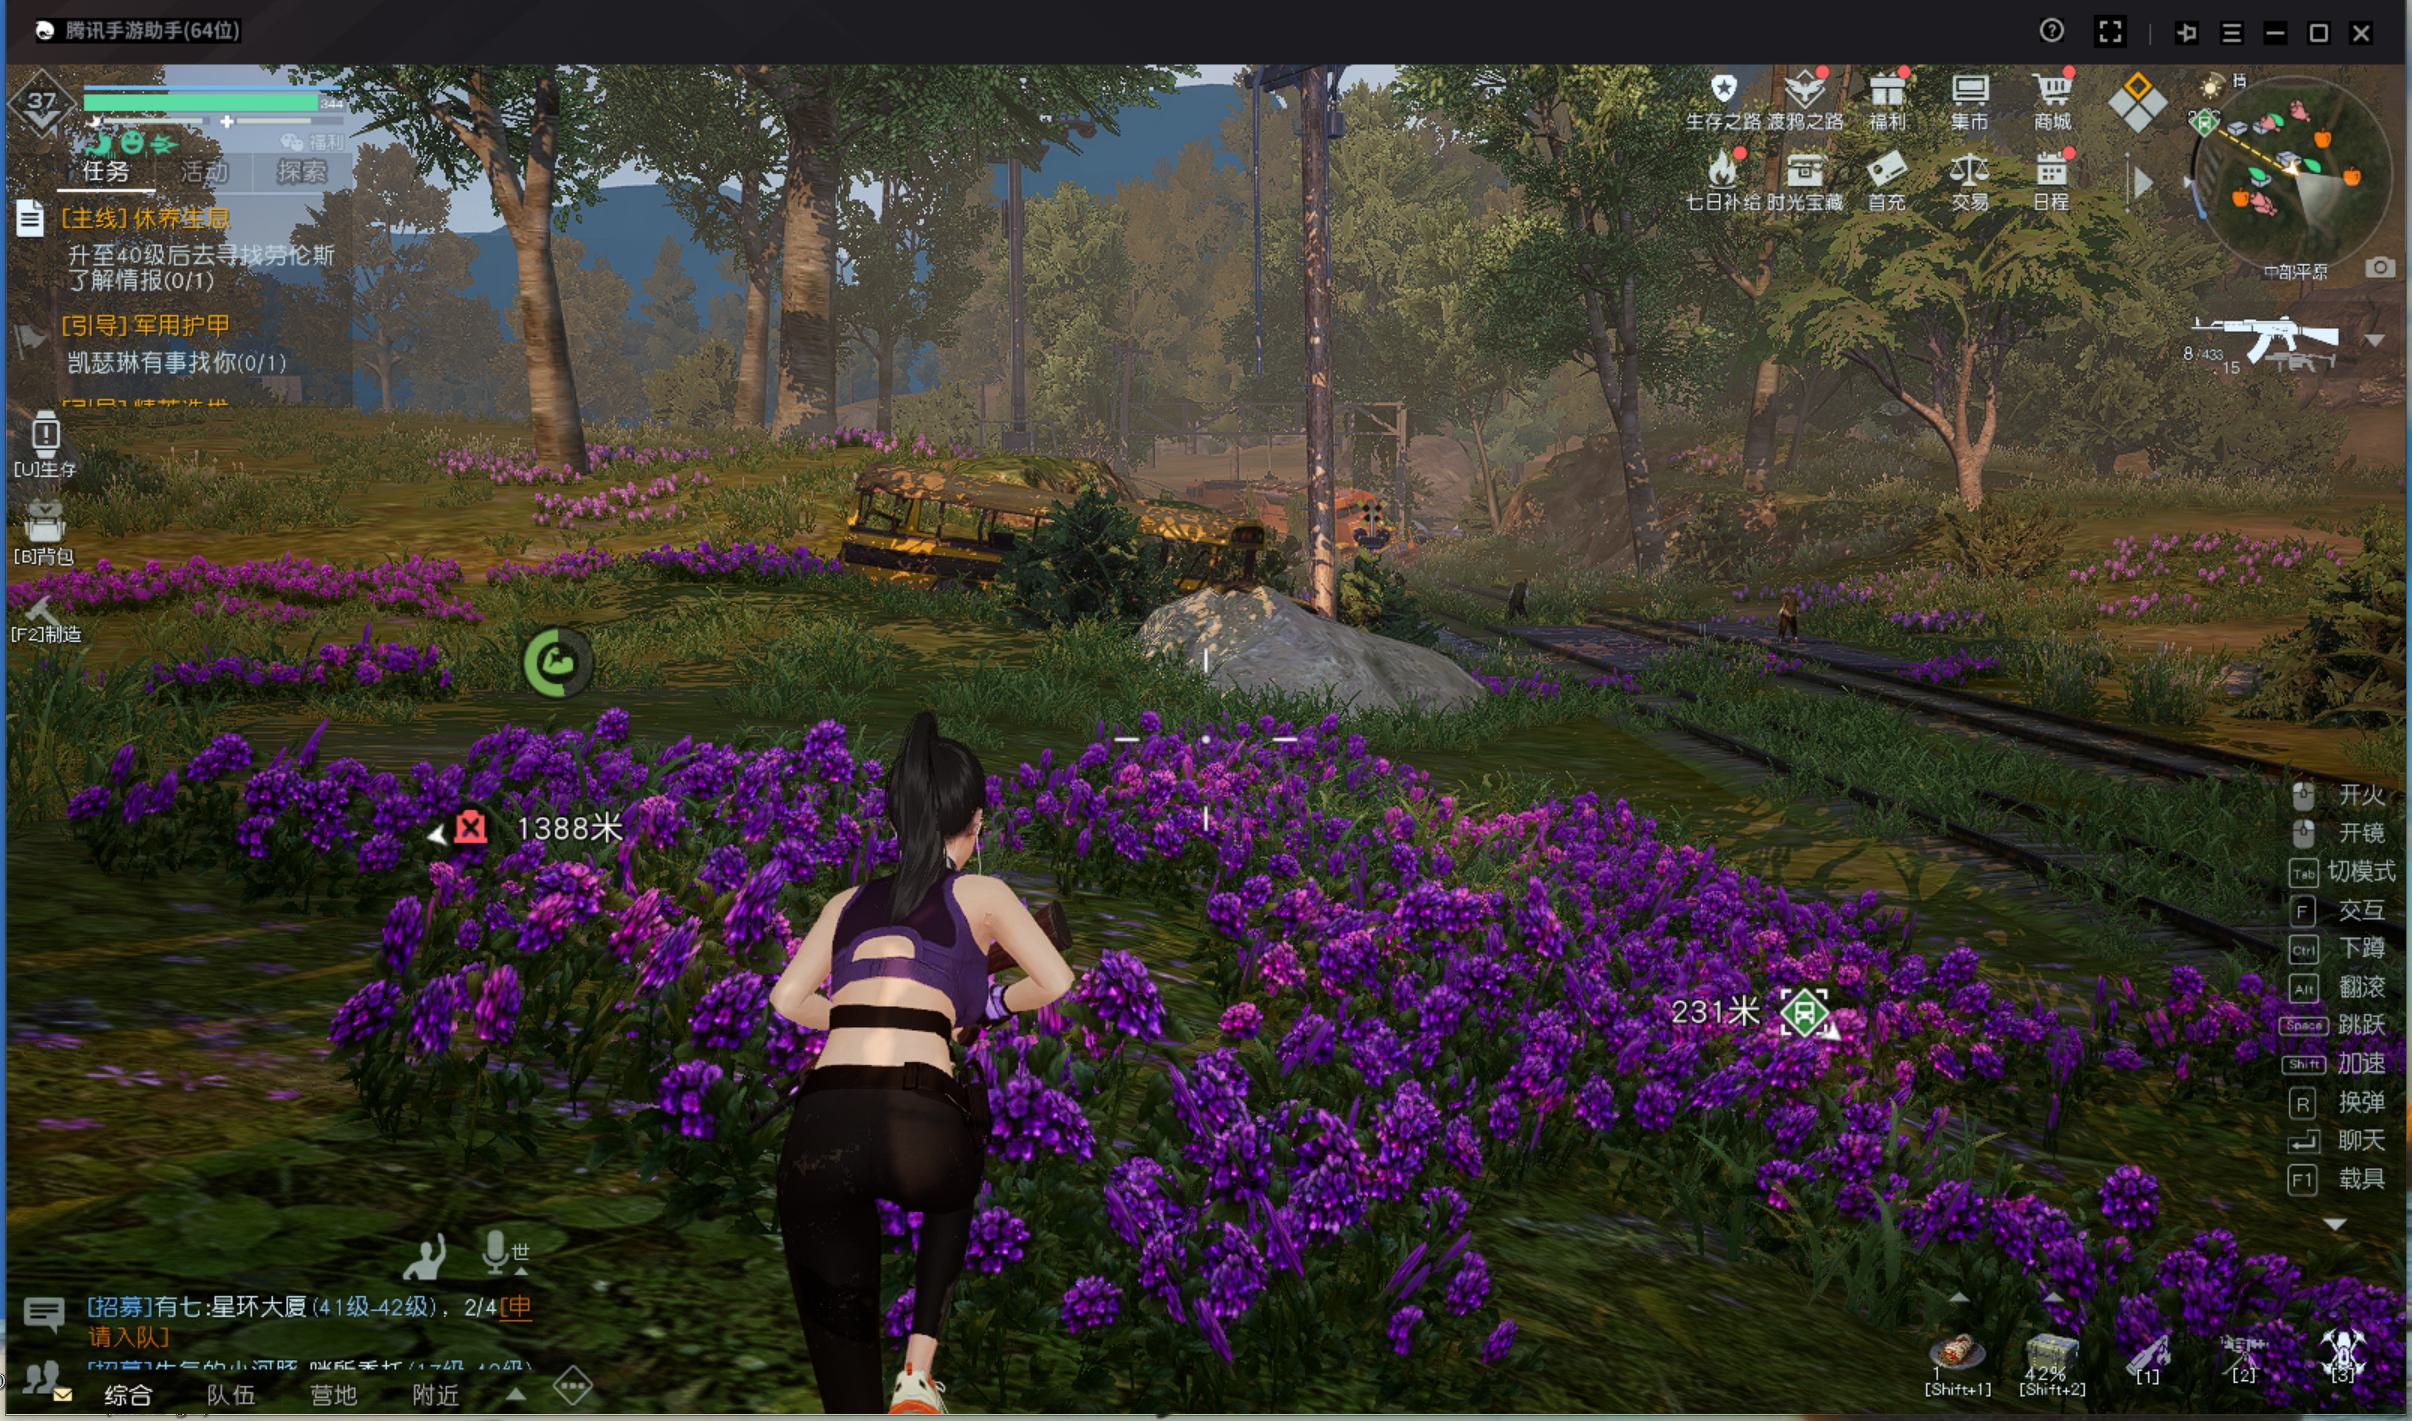tree: (501, 203, 597, 489), (1597, 338, 1676, 607), (775, 169, 837, 453), (1735, 347, 1786, 536), (731, 233, 768, 445), (873, 337, 902, 445)
